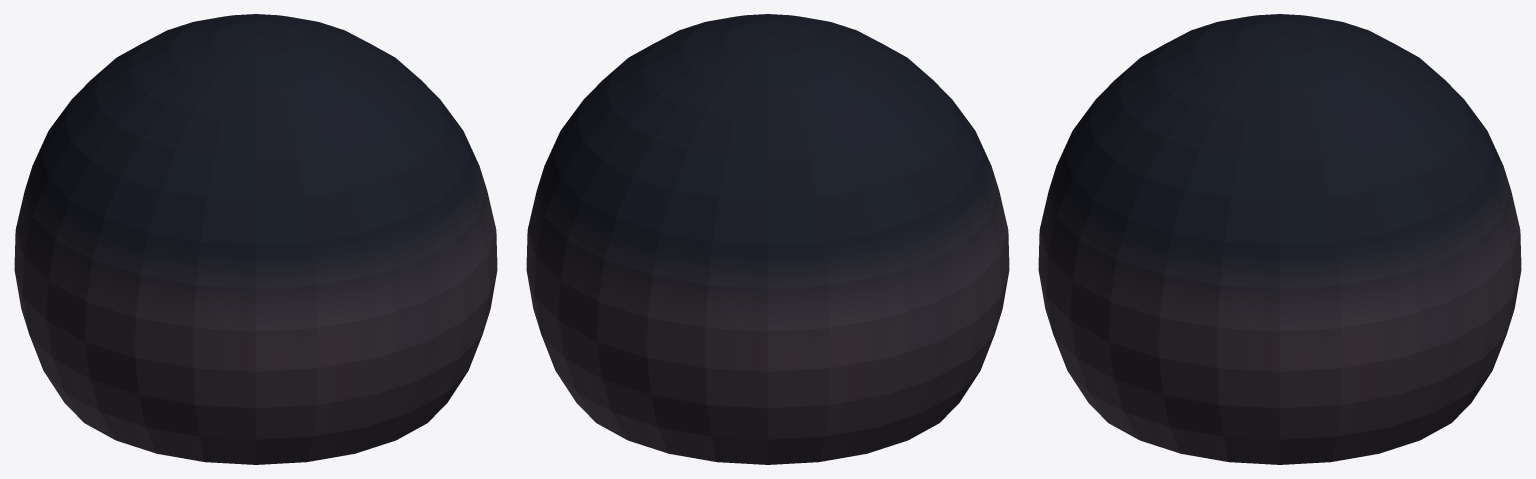
File: NightDome.obj
3 views of the same model, side by side, from view 1: azimuth 30°, elevation 25°; view 2: azimuth 150°, elevation 25°; view 3: azimuth 270°, elevation 25° (orthographic).
Parts seen in each view (by area): view 1: NightDome; view 2: NightDome; view 3: NightDome.
Boxes of the visible parts, x1,y1,x2,y2 form: NightDome: [14, 14, 497, 464]; NightDome: [526, 14, 1009, 464]; NightDome: [1038, 14, 1521, 464].
Bounding box in the file's own units: 339 × 268 × 339.
Materials: 1 (1 with a texture image).
